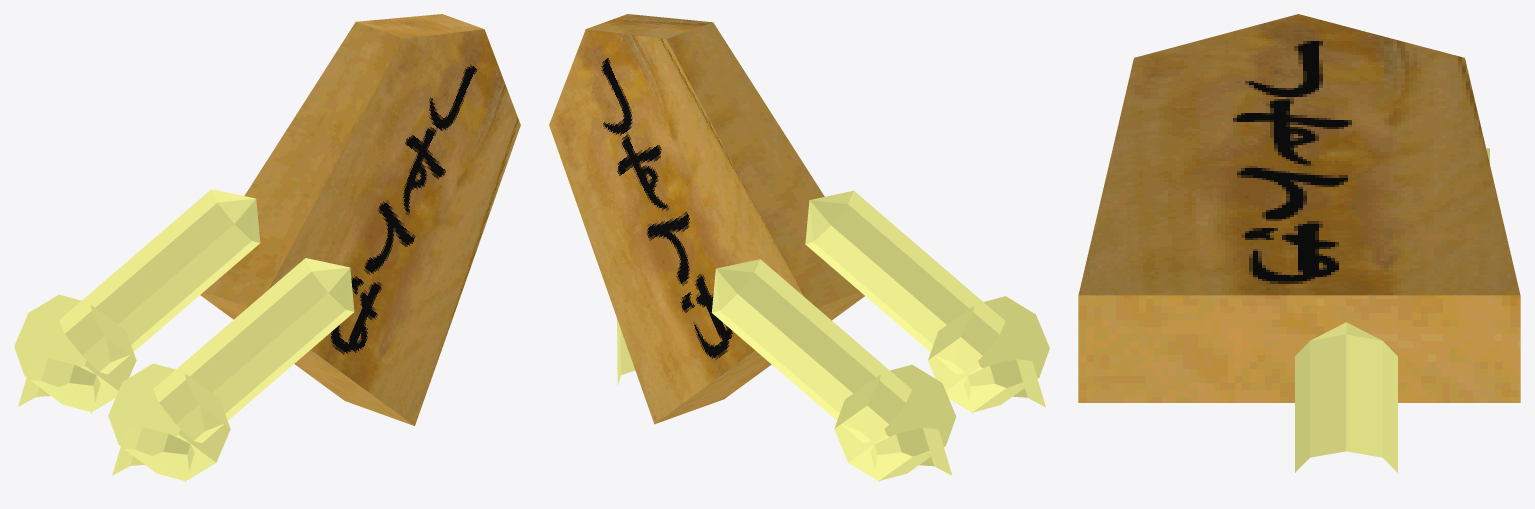
The model's file is ps2_save-icons_saikyoushougigekisashispecial-systemdata.glb.
3 views of the same model, side by side, from view 1: azimuth 30°, elevation 25°; view 2: azimuth 150°, elevation 25°; view 3: azimuth 270°, elevation 25° (orthographic). The views are drawn at different scales.
Parts seen in each view (by area): view 1: system.ico; view 2: system.ico; view 3: system.ico.
Boxes of the visible parts, x1,y1,x2,y2 form: system.ico: [14, 14, 520, 482]; system.ico: [549, 14, 1049, 482]; system.ico: [1078, 14, 1520, 472].
Size of the model in its own units: 4.41 by 3.55 by 2.9.
1 material, 1 textured.
